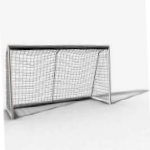goals: (4, 43, 112, 120)
